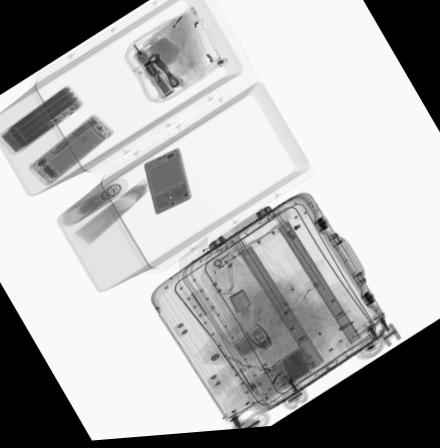Powerbank: (0, 84, 87, 157)
